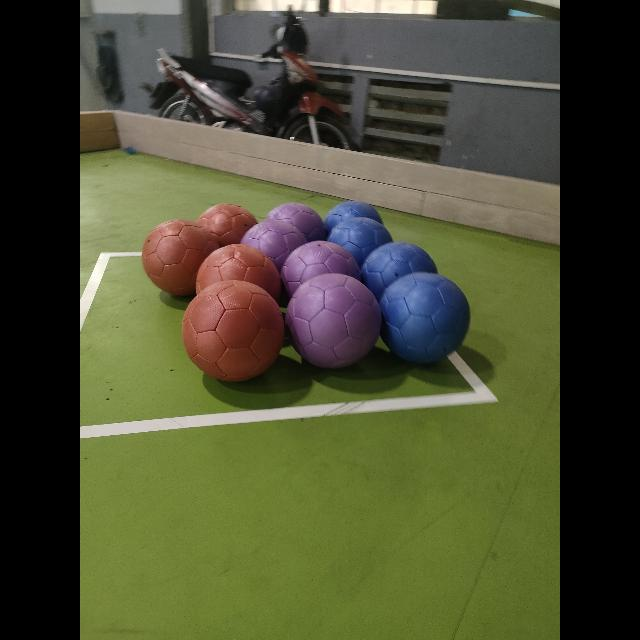B: (379, 273, 469, 363), (363, 237, 435, 305), (328, 218, 392, 266)
P: (286, 274, 380, 368), (283, 238, 369, 302), (240, 221, 308, 271)
R: (182, 281, 284, 381), (143, 220, 217, 290), (200, 248, 276, 316), (196, 203, 258, 245)
